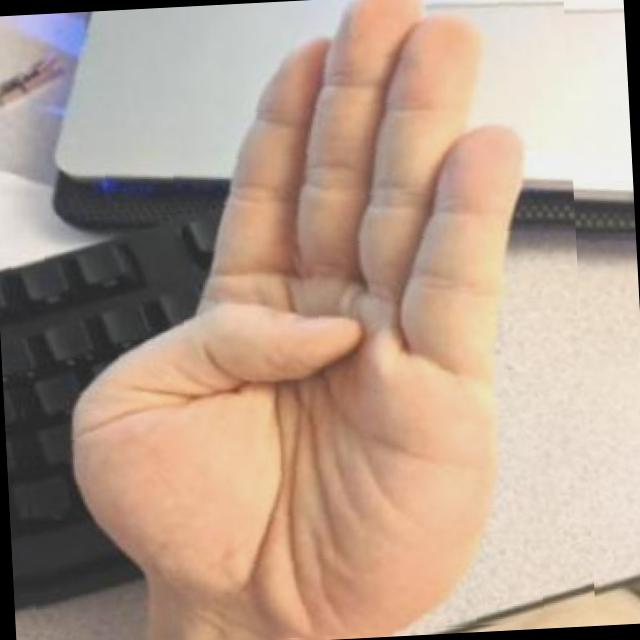B: (0, 0, 597, 640)
